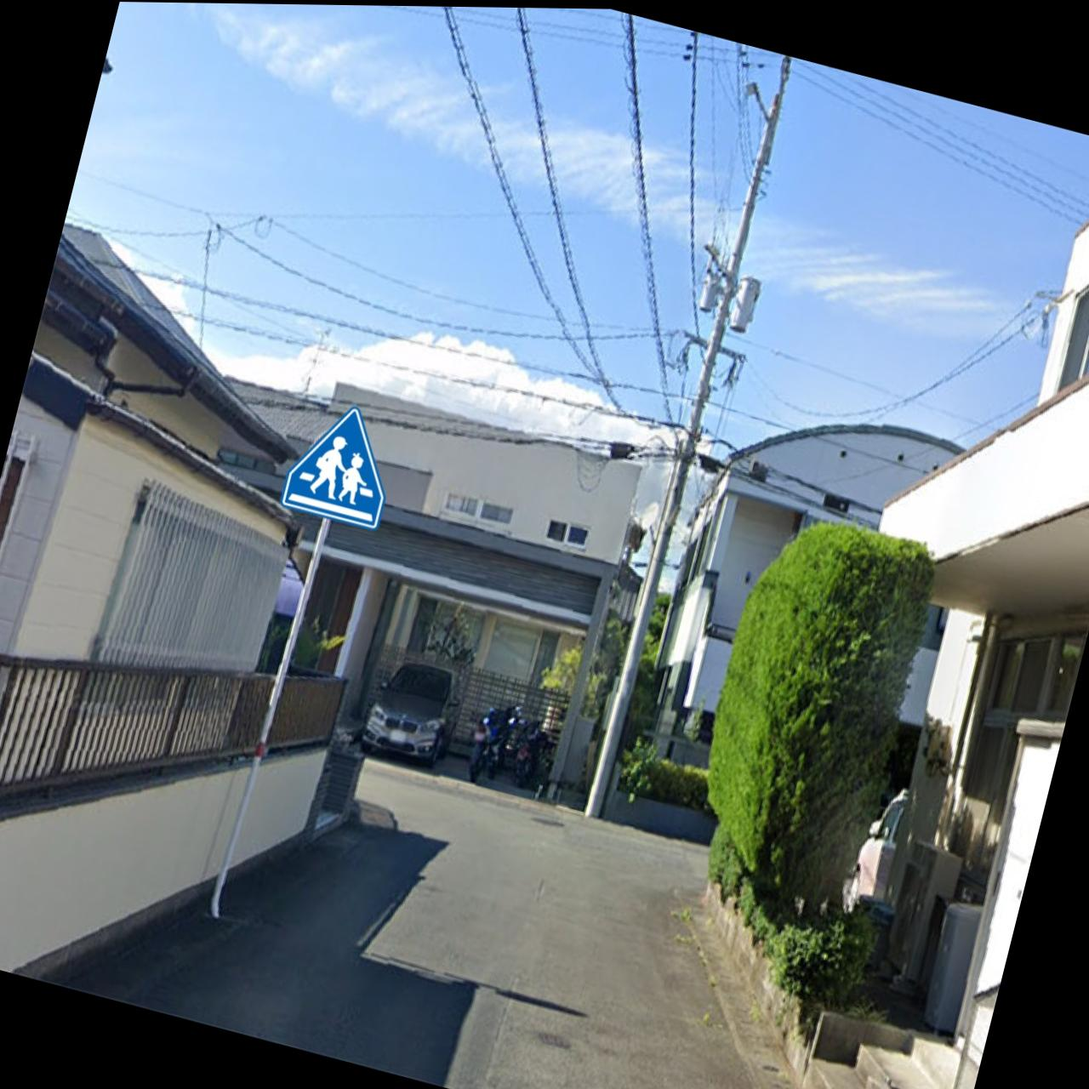cone: (149, 223, 429, 728)
